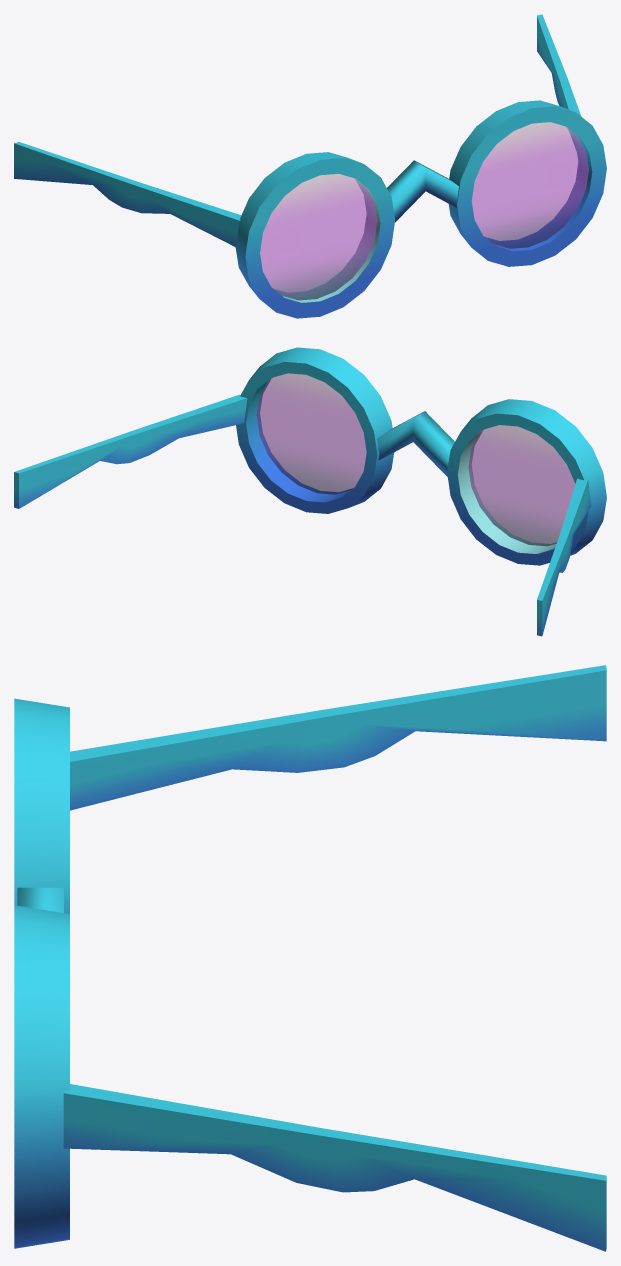
The model's file is Glasses_Deep_Blue.gltf.
3 views of the same model, one above another, from view 1: azimuth 30°, elevation 25°; view 2: azimuth 150°, elevation 25°; view 3: azimuth 270°, elevation 25° (orthographic). The views are drawn at different scales.
Parts seen in each view (by area): view 1: Glasses_Deep_Blue; view 2: Glasses_Deep_Blue; view 3: Glasses_Deep_Blue.
Part boxes in pixels (x1,y1,x2,y2): Glasses_Deep_Blue: [14, 14, 606, 318]; Glasses_Deep_Blue: [14, 347, 606, 636]; Glasses_Deep_Blue: [14, 665, 606, 1251].
Bounding box in the file's own units: 0.9976 × 0.2831 × 0.4845.
Materials: 2 (2 with a texture image).
